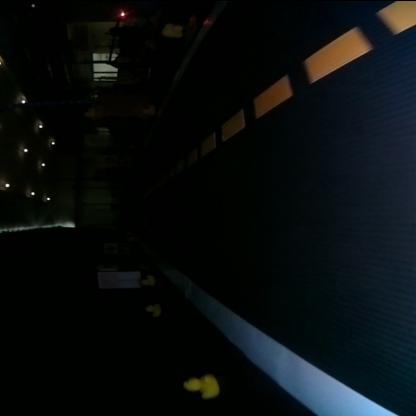Duckie: (183, 373, 219, 397), (160, 22, 182, 36), (140, 275, 154, 284), (148, 303, 160, 313), (142, 106, 154, 113)
